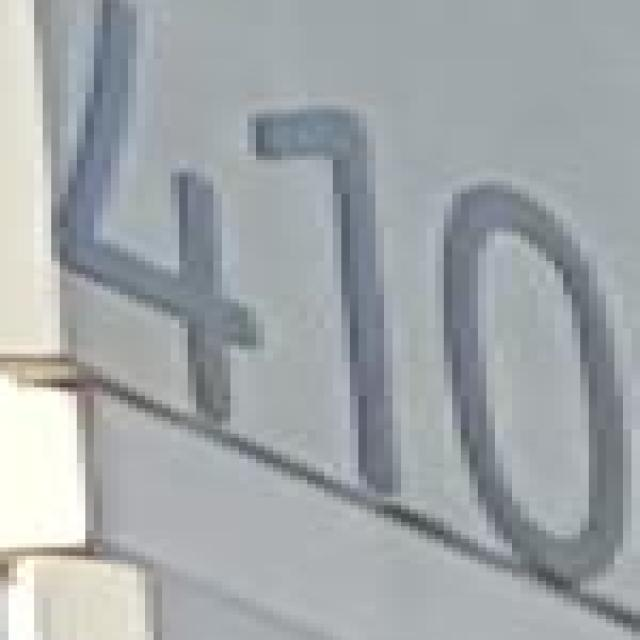character: (39, 0, 274, 434), (420, 170, 632, 594), (235, 103, 418, 508)
